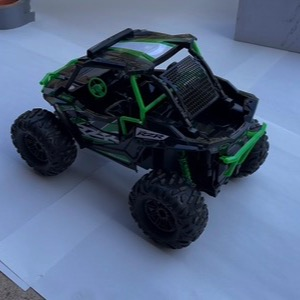polaris: (10, 27, 271, 251)
